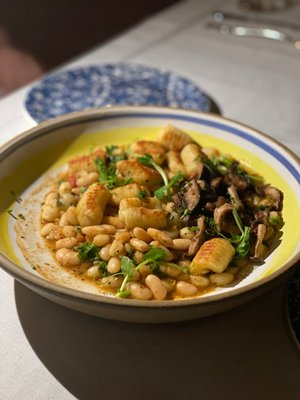curry: (76, 242, 101, 262)
sushi: (1, 118, 300, 319)
